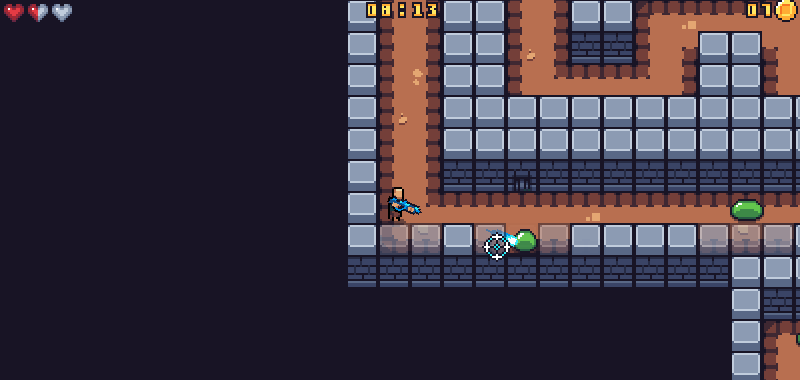enemy_slug: (727, 196, 767, 223), (508, 224, 542, 253)
